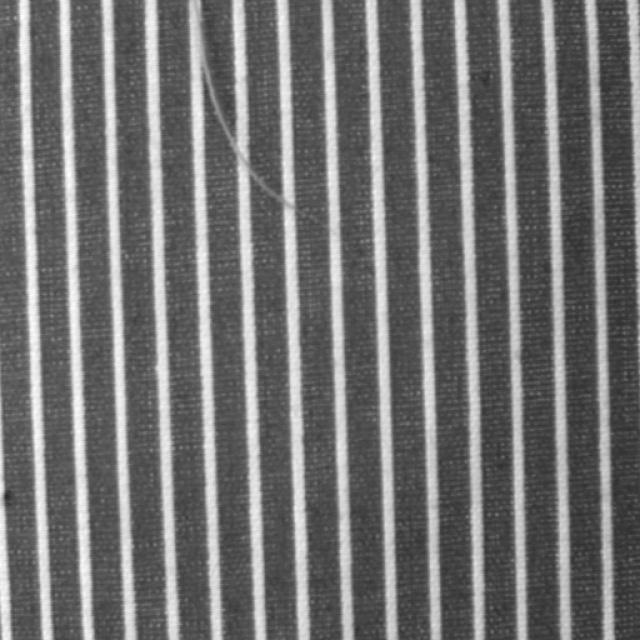Foreign-Body-Defect: (188, 0, 296, 214)
